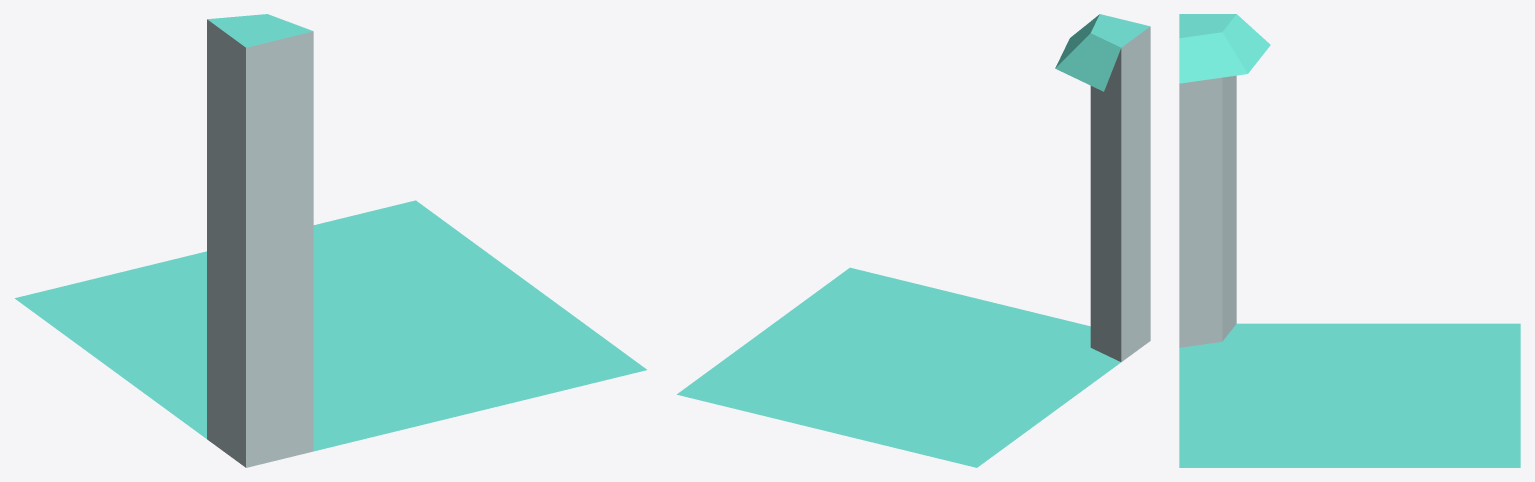
The model's file is cliff_cornerTop_stone_grass.glb.
3 views of the same model, side by side, from view 1: azimuth 30°, elevation 25°; view 2: azimuth 150°, elevation 25°; view 3: azimuth 270°, elevation 25° (orthographic). The views are drawn at different scales.
Parts seen in each view (by area): view 1: cliff_cornerTop_stone_grass; view 2: cliff_cornerTop_stone_grass; view 3: cliff_cornerTop_stone_grass.
Boxes of the visible parts, x1,y1,x2,y2 form: cliff_cornerTop_stone_grass: [15, 14, 646, 467]; cliff_cornerTop_stone_grass: [677, 14, 1150, 467]; cliff_cornerTop_stone_grass: [1179, 14, 1520, 467].
Bounding box in the file's own units: 1 × 1 × 1.
